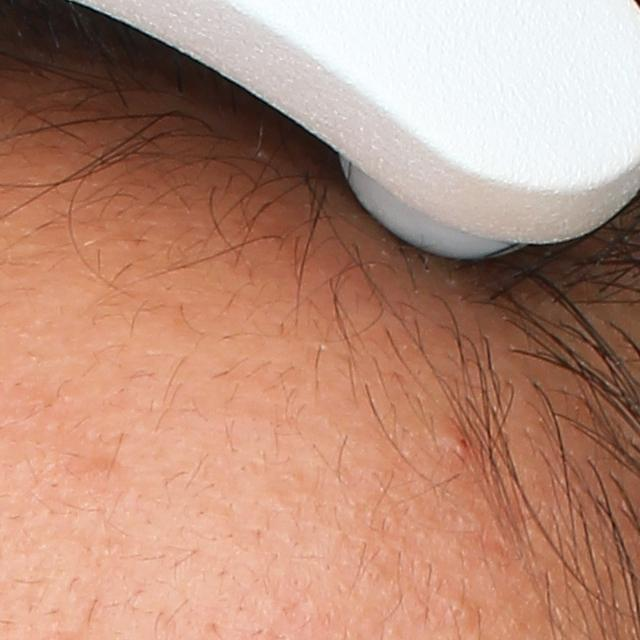comedo: (445, 595, 482, 626)
papule: (444, 426, 478, 458)
